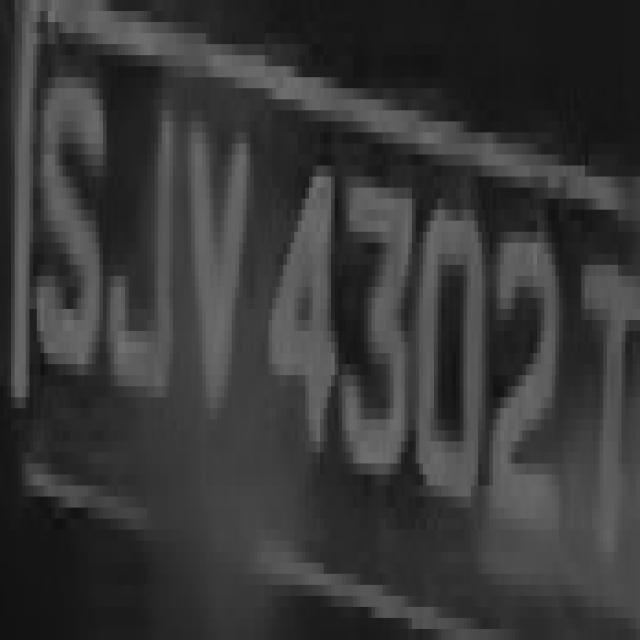0: (420, 121, 490, 541)
2: (500, 166, 563, 552)
3: (342, 99, 416, 530)
4: (276, 100, 342, 497)
J: (110, 55, 188, 397)
S: (37, 55, 110, 419)
T: (3, 3, 4, 11)
V: (180, 55, 265, 475)
